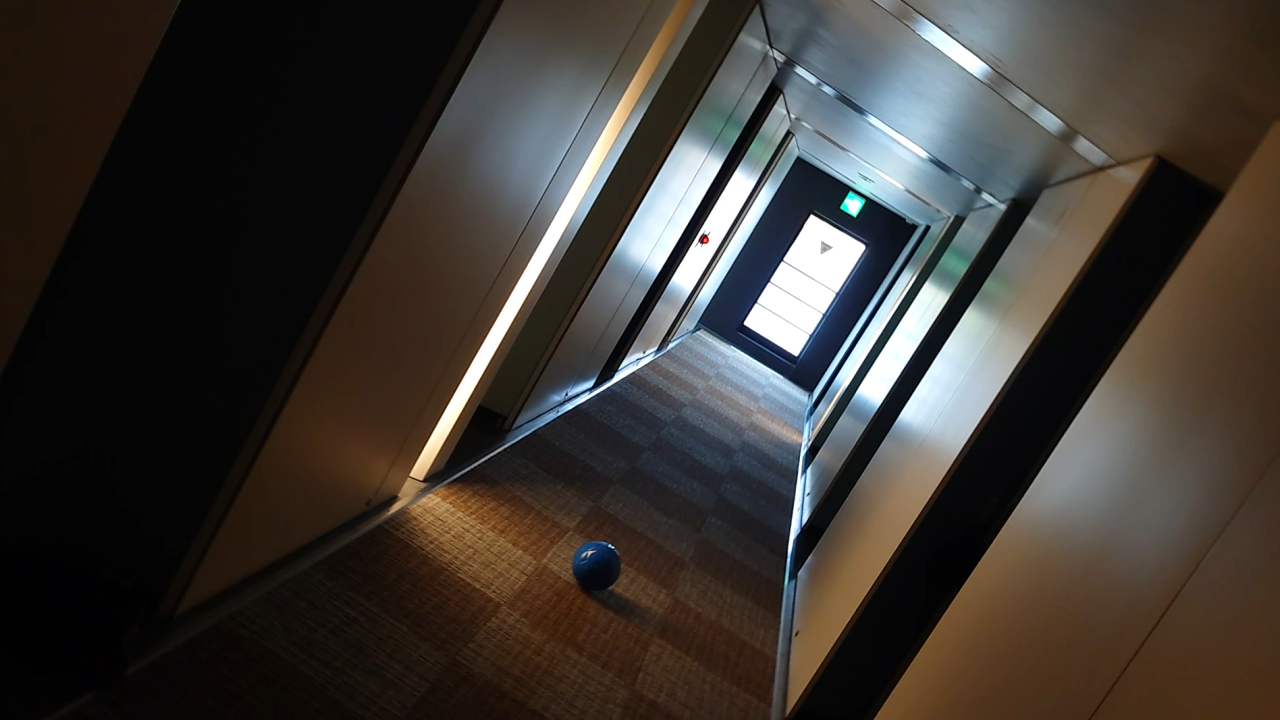BlueBall: (570, 541, 625, 591)
